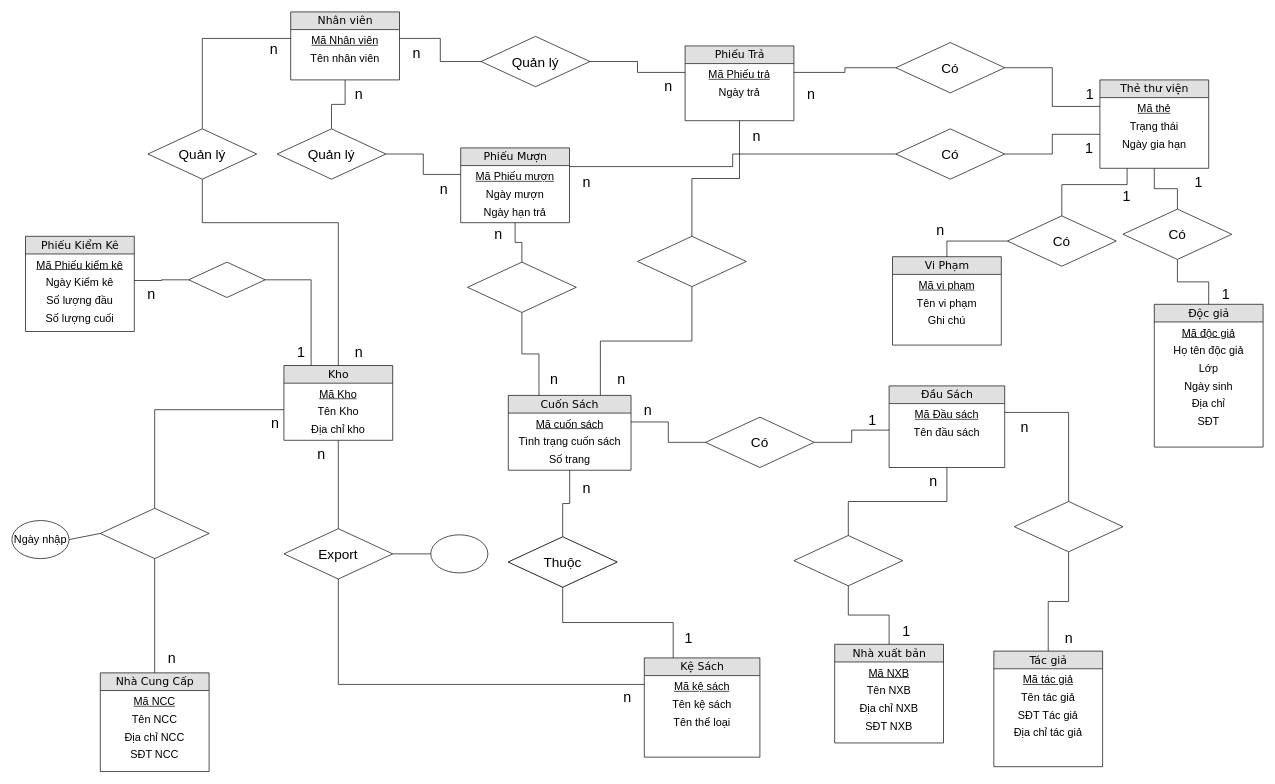
Some shapes in this 1275 by 784 pixel diagram are drawn without their labels. The centre of each missing label's shape, as x and y in pixels:
"Import" goes at point (154, 533).
"Kiểm tra" goes at point (226, 279).
"Mượn" goes at point (521, 286).
"Ngày xuất" goes at point (459, 553).
"Trả" goes at point (691, 261).
"Viết" goes at point (1068, 526).
"Xuất bản" goes at point (848, 560).
